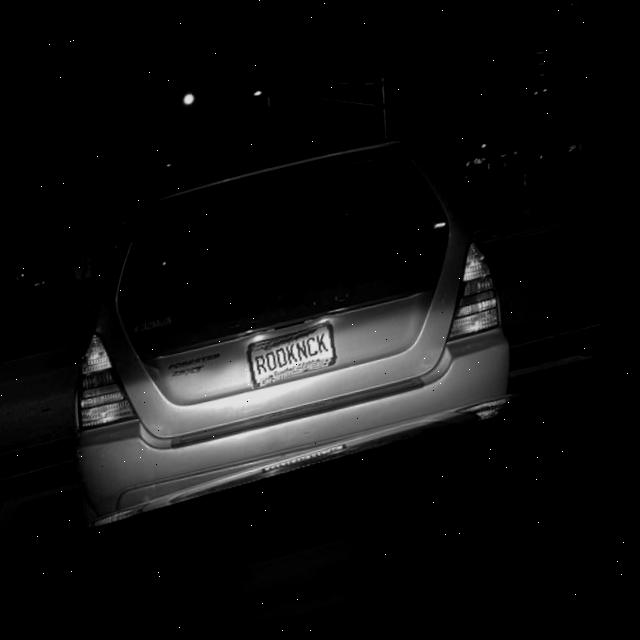LicensePlate: (254, 325, 347, 392)
